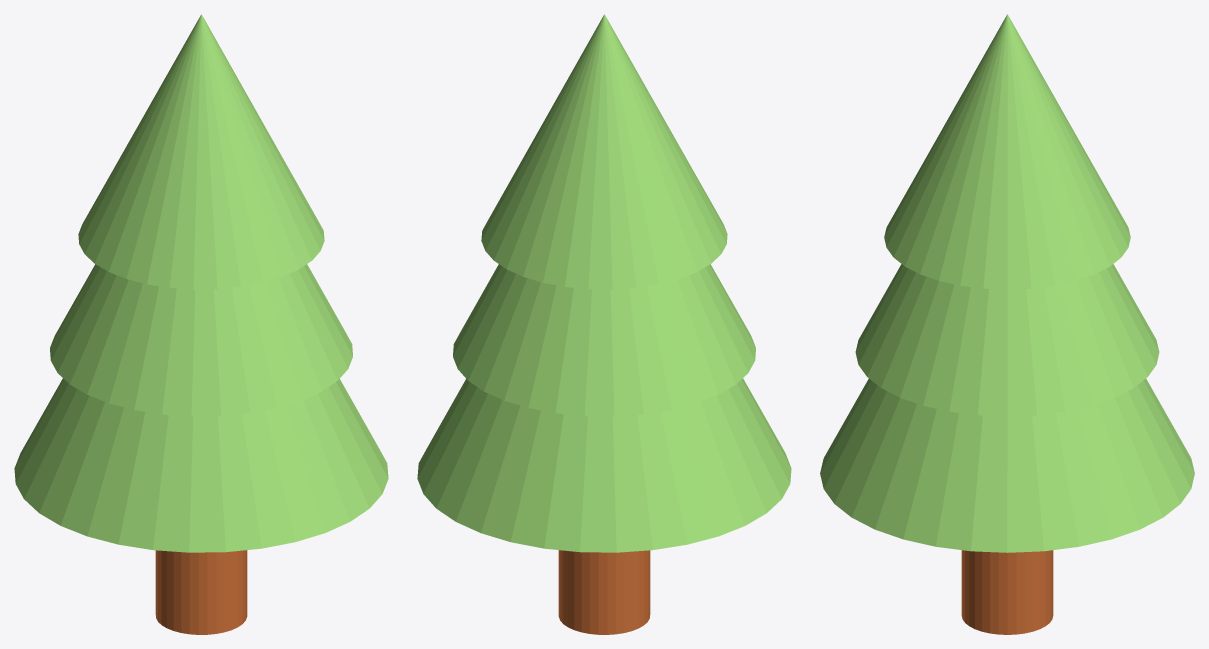
File: tree.fbx
3 views of the same model, side by side, from view 1: azimuth 30°, elevation 25°; view 2: azimuth 150°, elevation 25°; view 3: azimuth 270°, elevation 25° (orthographic).
Parts seen in each view (by area): view 1: Cone.002, Cylinder; view 2: Cone.002, Cylinder; view 3: Cone.002, Cylinder.
Part boxes in pixels (<box>): Cone.002: <box>14,14,388,552</box>; Cylinder: <box>155,550,247,634</box>; Cone.002: <box>417,14,791,552</box>; Cylinder: <box>558,550,650,634</box>; Cone.002: <box>820,14,1194,552</box>; Cylinder: <box>961,550,1053,634</box>.
Bounding box in the file's own units: 40.9 × 72.42 × 40.9.
